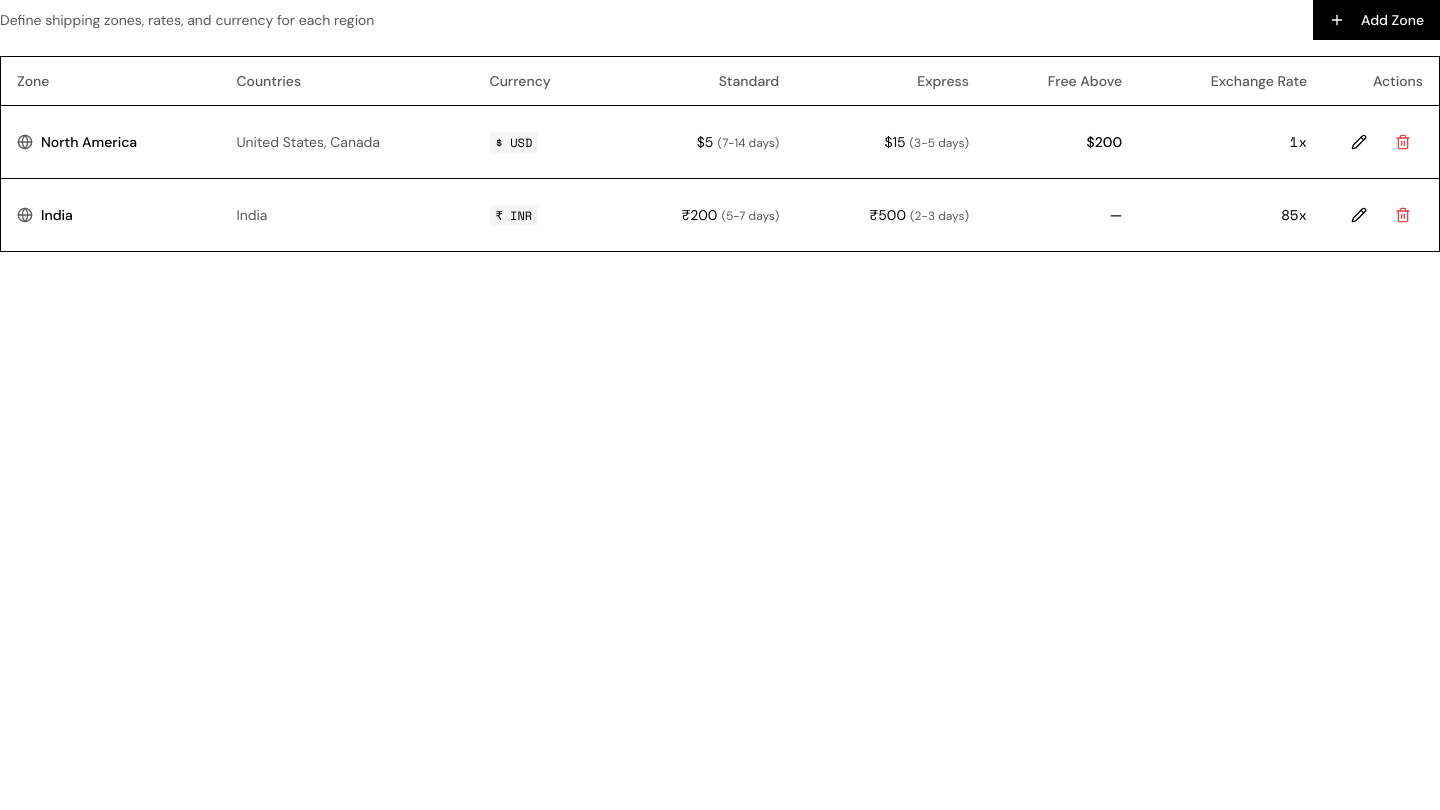
AdminShippingZones › opens edit dialog with pre-filled data
// Find pencil button (first icon button in first row)
Click the 2nd button at [1359, 142], box [1339, 122, 1379, 162]
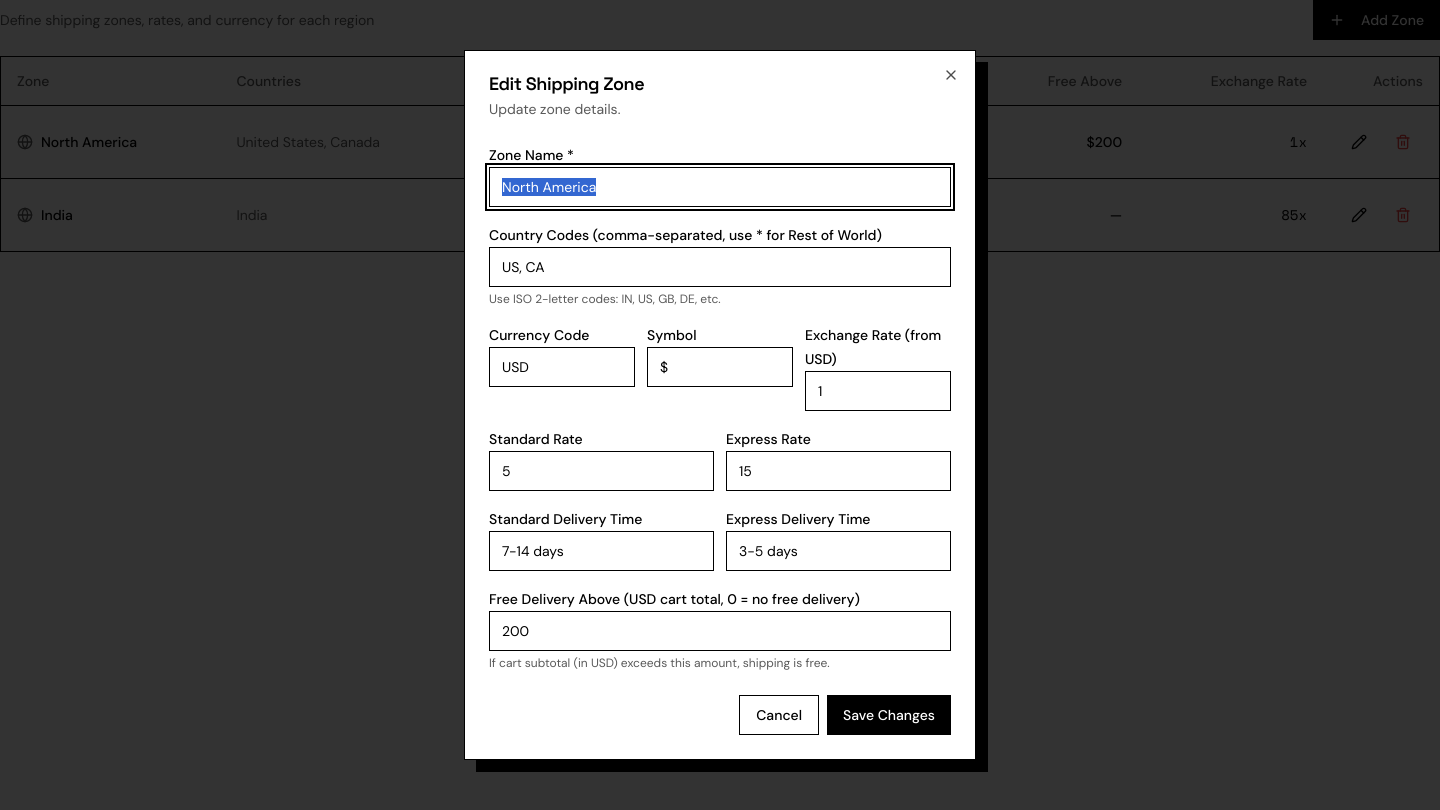
Check: the heading "Edit Shipping Zone" is shown, box [489, 72, 644, 95]
Check: the field showing "North America" below "Zone Name *" is shown, box [489, 167, 951, 207]
Check: the 4th number field showing "200" is shown, box [489, 611, 951, 651]
